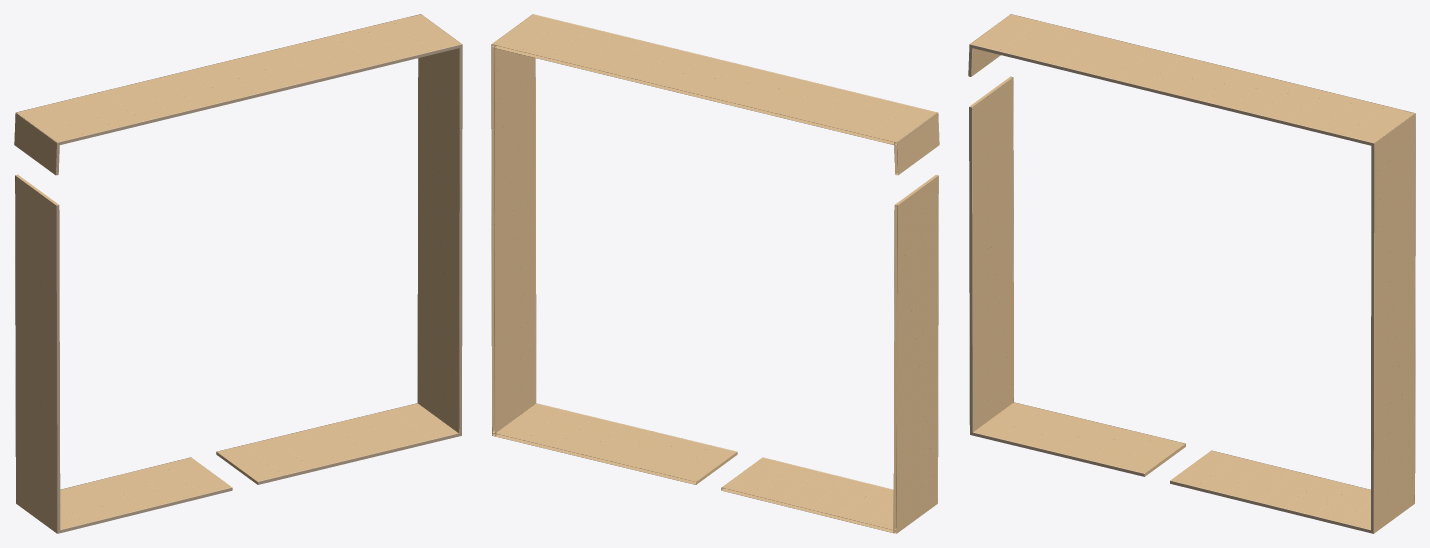
File: wall_1.obj
The picture shows the model from 3 angles, left to right: view 1: azimuth 30°, elevation 25°; view 2: azimuth 150°, elevation 25°; view 3: azimuth 330°, elevation 25°; orthographic projection.
Parts seen in each view (by area): view 1: walls; view 2: walls; view 3: walls.
Part boxes in pixels (box(x1,y1,x2,y2)): walls: box(14, 14, 462, 533); walls: box(491, 14, 939, 533); walls: box(968, 14, 1415, 533).
Bounding box in the file's own units: 14.15 × 13.02 × 2.5.
Materials: 1 (1 with a texture image).
